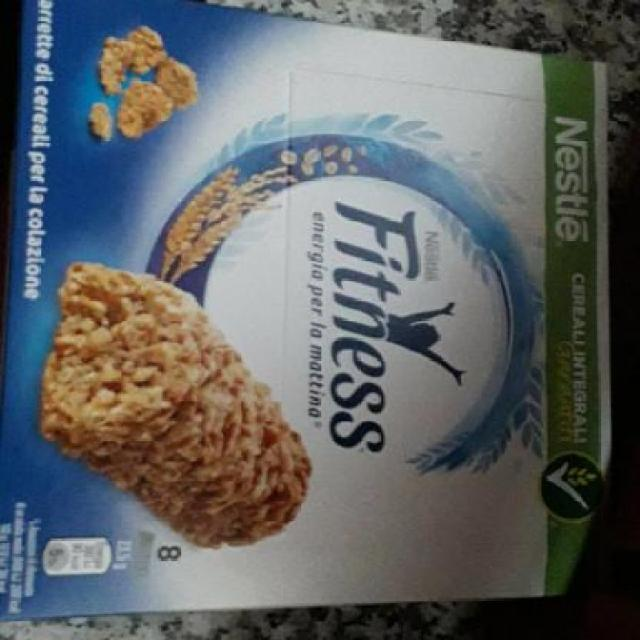Cereal bar: (6, 4, 622, 628)
